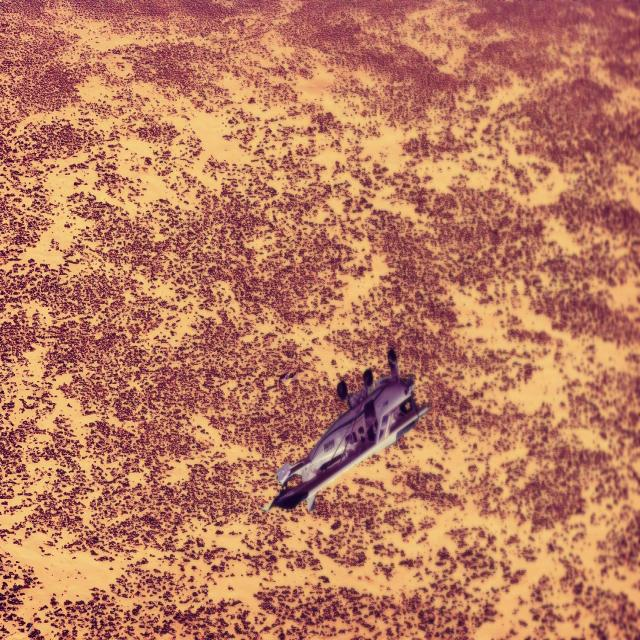airplane: (261, 346, 429, 515)
